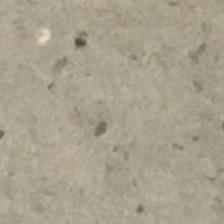Non_Crack: (35, 103, 224, 219)
